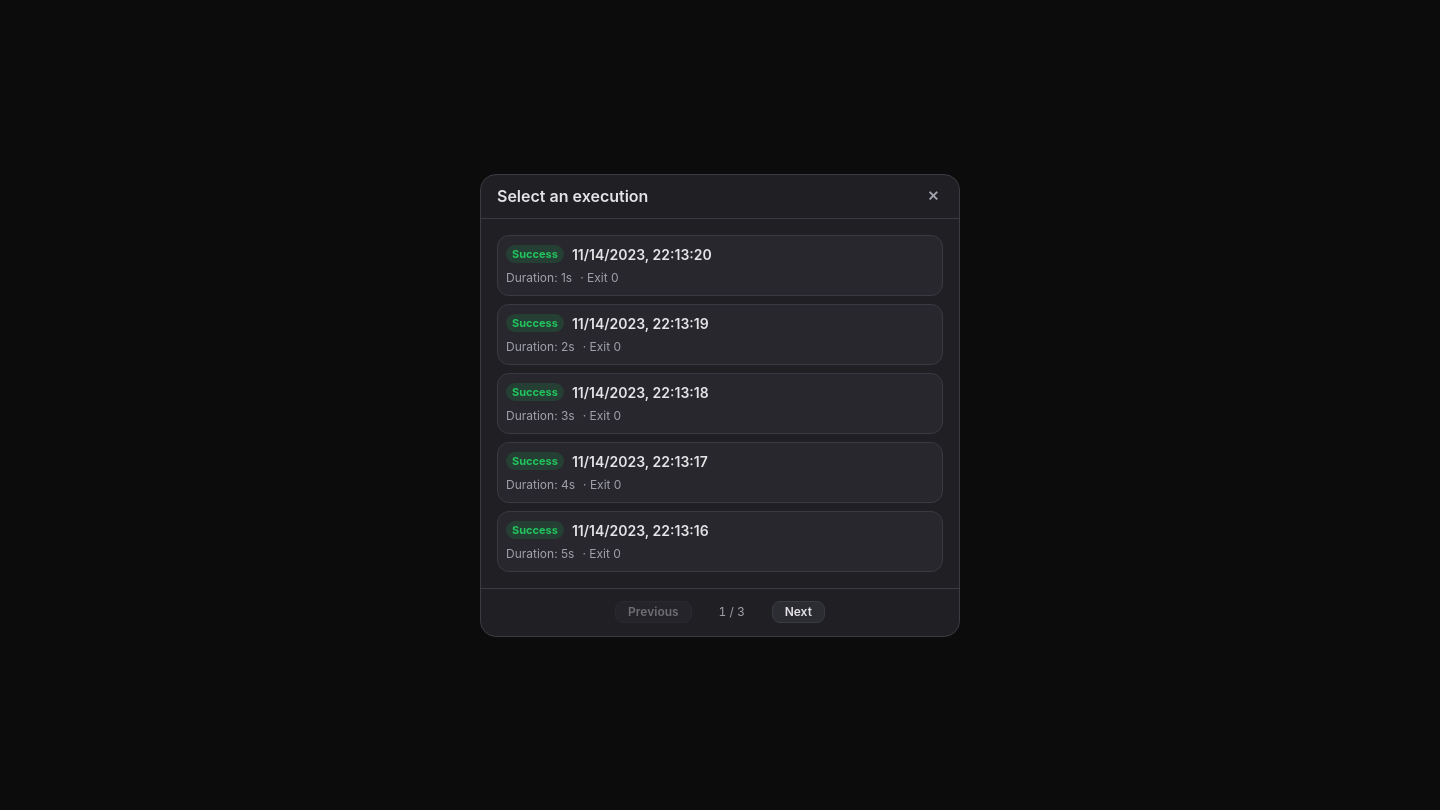
Test: ExecutionHistoryDialog.vue — 历史选择弹框 › 下一页翻到后续记录,末页禁用 next
Expected: the button with class "ehd-page-btn" showing "Previous" is disabled, [615,601,692,623]
Click the button with class "ehd-page-btn" showing "Next": [798, 612] box [772,601,825,623]
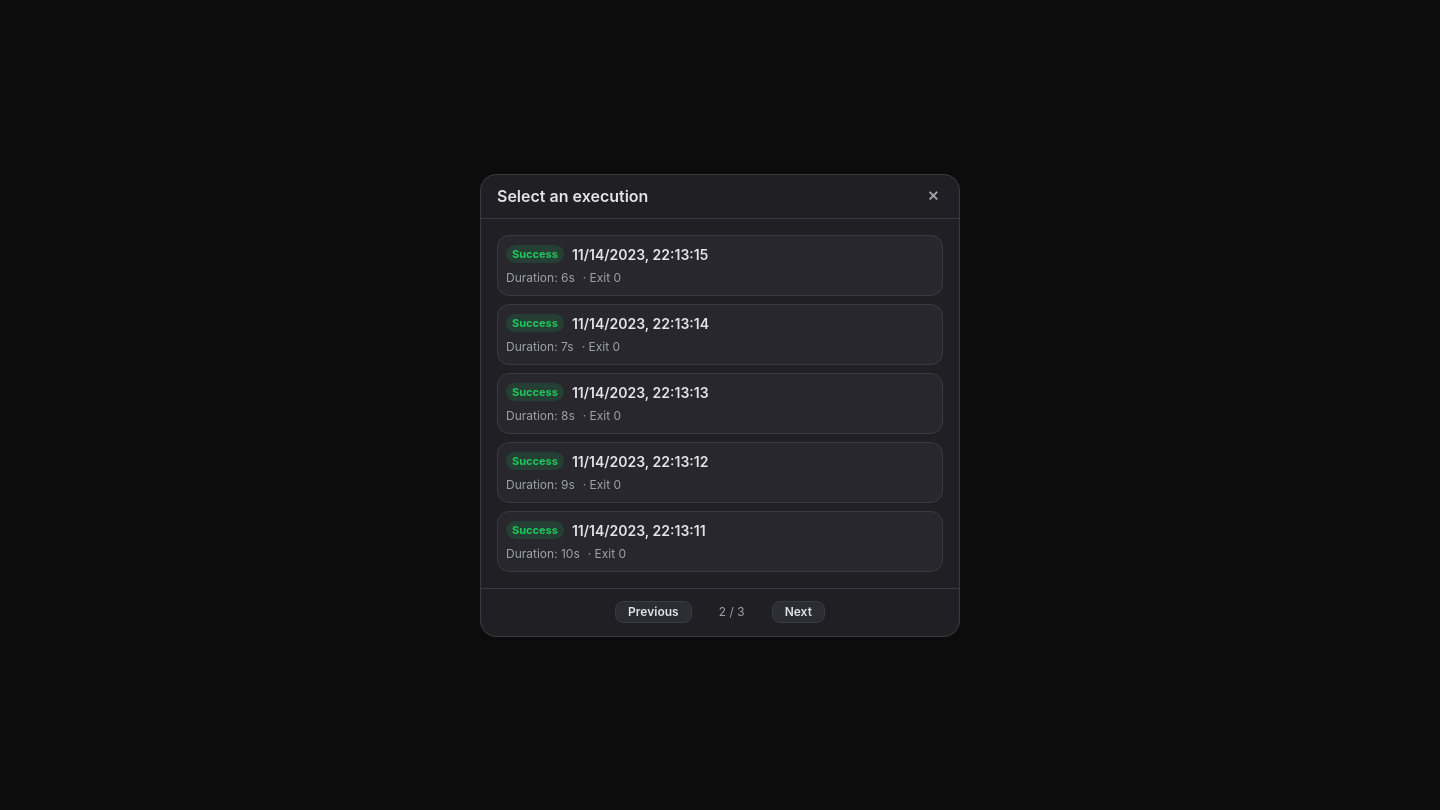
Expected: the number of buttons with test id "history-dialog-item" is 5, [497,234,943,296]; [497,304,943,364]; [497,372,943,434]; [497,442,943,502]; [497,510,943,572]
Now the text with test id "history-dialog-page" reads "2 / 3", box [718,604,745,619]
Click the button with class "ehd-page-btn" showing "Next": [798, 612] box [772,601,825,623]
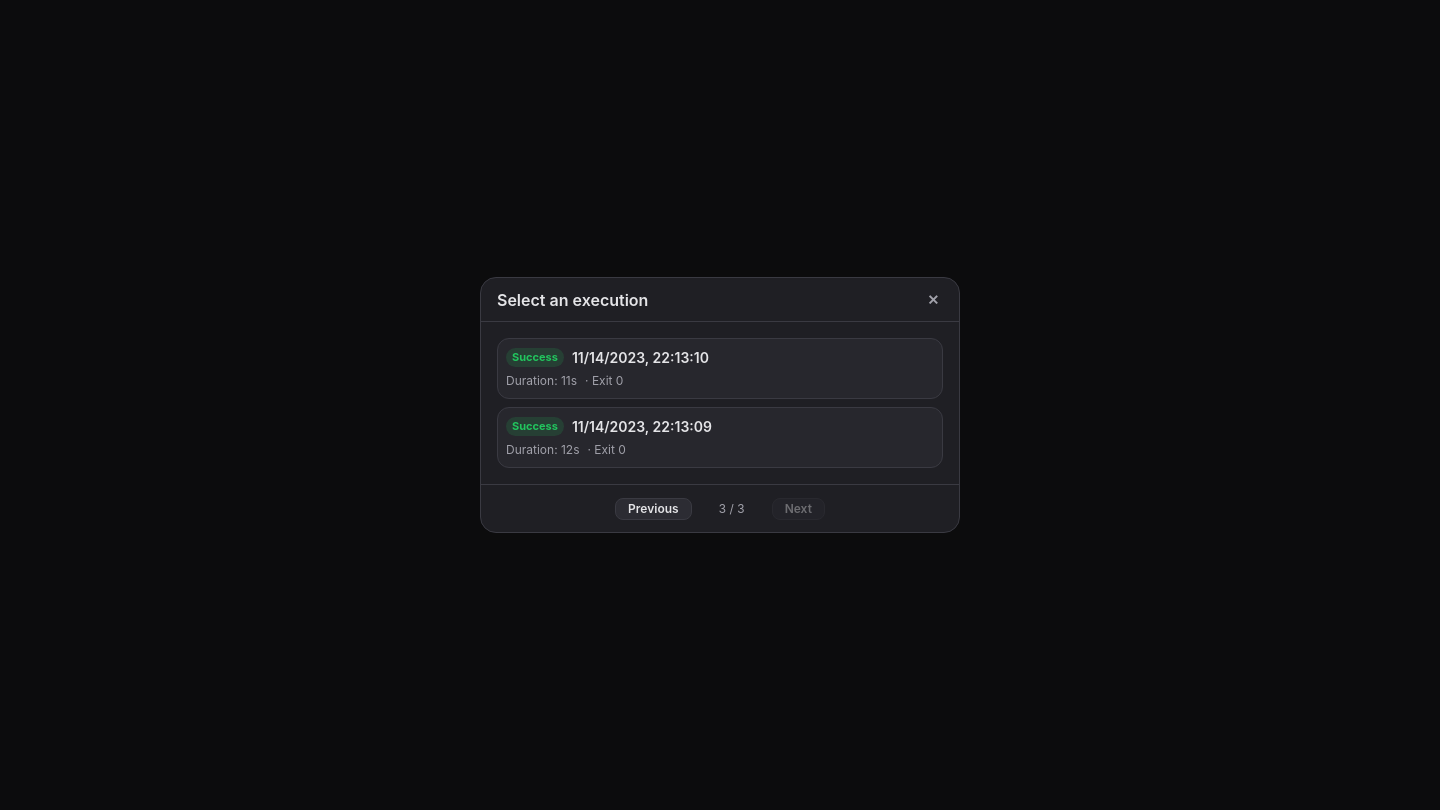
Now the text with test id "history-dialog-page" reads "3 / 3", box [718,500,745,516]
Now the number of buttons with test id "history-dialog-item" is 2, box [497,338,943,399]; [497,407,943,468]
Now the button with class "ehd-page-btn" showing "Next" is disabled, box [772,498,825,520]
